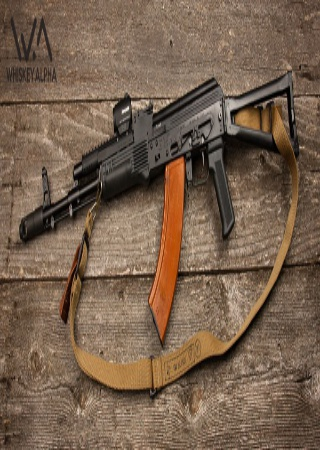rifle: (14, 67, 300, 251)
